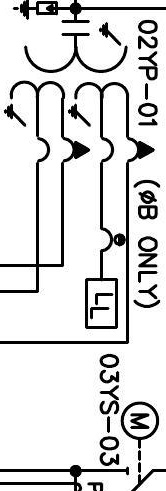115_cvt_1p: (3, 19, 156, 165)
LL: (85, 278, 118, 329)
